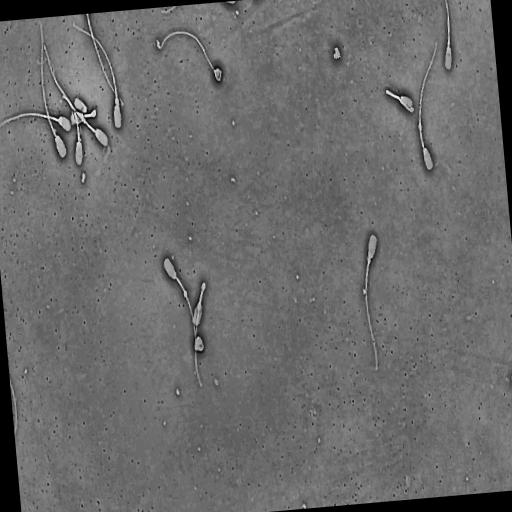dirt-particles: (193, 334, 205, 354), (332, 43, 343, 62), (213, 65, 223, 84), (155, 39, 162, 51)
distal-droplet: (419, 123, 422, 131), (184, 290, 187, 298), (48, 115, 50, 119)
folded-tail: (195, 283, 206, 385), (399, 99, 414, 112), (386, 90, 400, 99)
loose-head: (74, 97, 87, 113)
loose-tail: (84, 14, 127, 110), (159, 27, 214, 70)
normal: (72, 24, 122, 132), (163, 257, 197, 371), (40, 25, 66, 160), (418, 42, 437, 170), (364, 233, 378, 372), (191, 279, 207, 387), (0, 111, 72, 132), (442, 0, 454, 75), (386, 89, 414, 114)
proximal-droplet: (115, 97, 119, 107), (368, 256, 370, 264), (448, 40, 450, 47)
